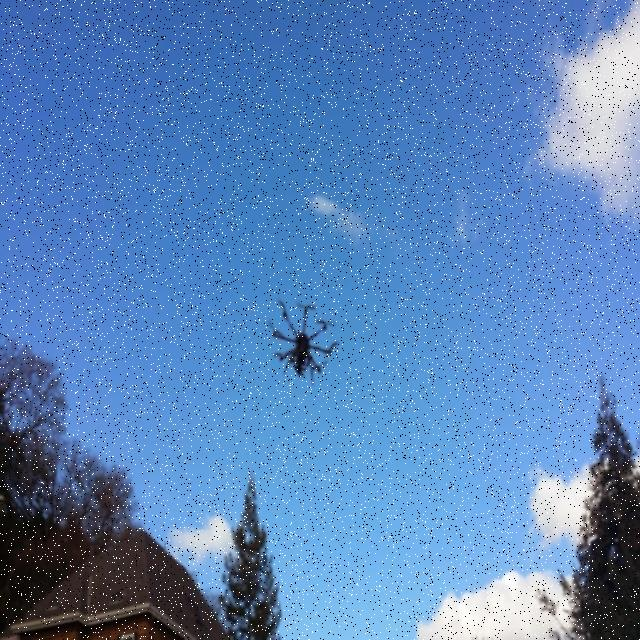UAV: (269, 298, 339, 387)
